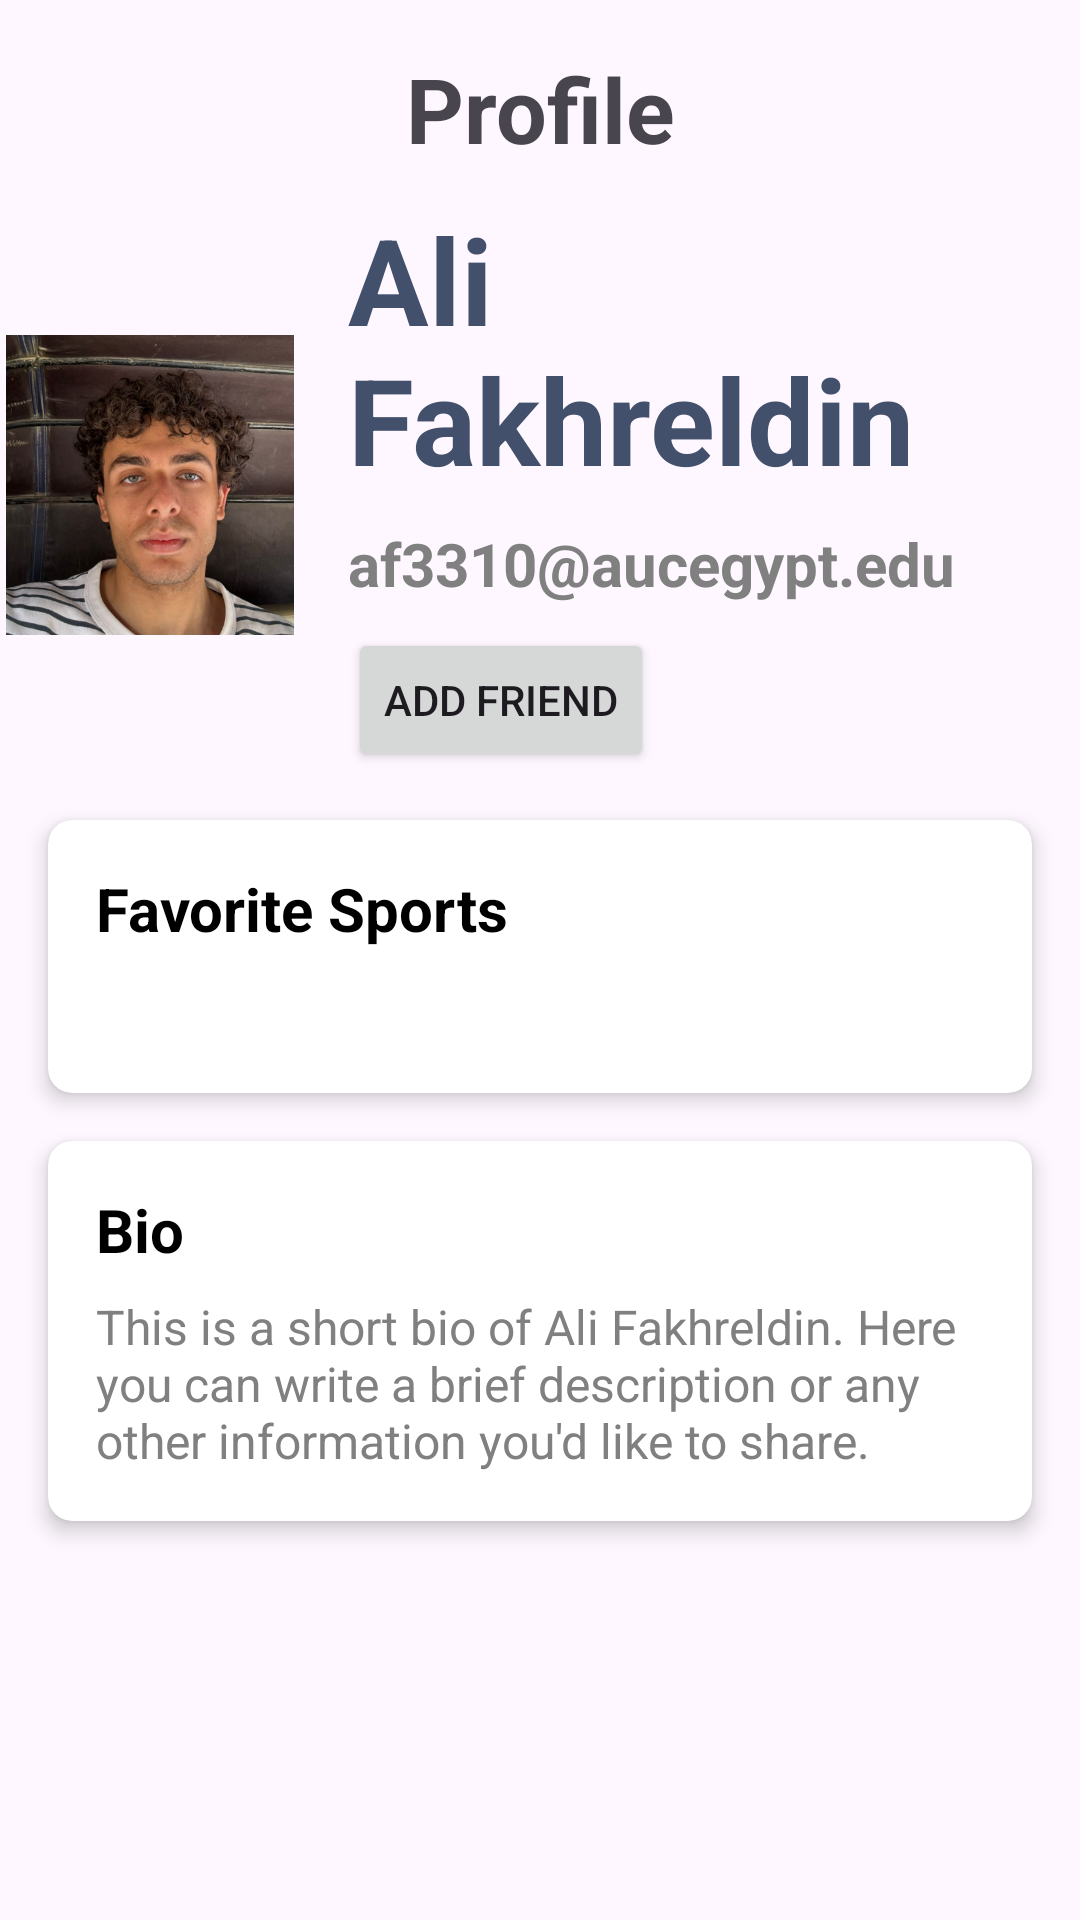

Point at icon controls on the screen. Image size 1080x1920, points as point (x, y).
pictureofme: point (150, 485)
